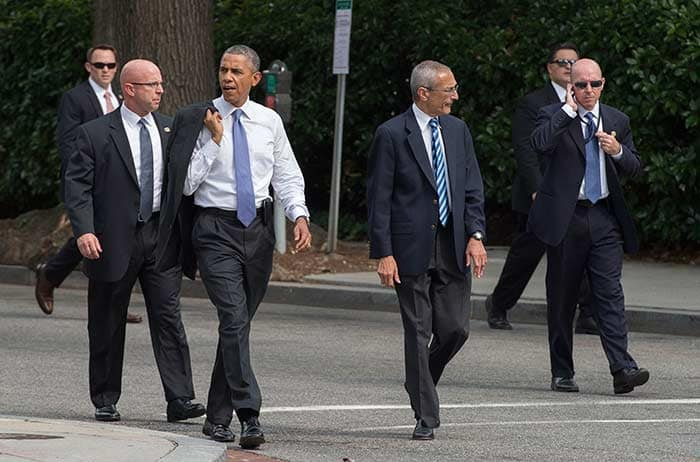feet: (30, 255, 143, 327), (481, 281, 608, 339), (84, 379, 214, 427), (546, 346, 657, 401), (398, 378, 458, 445), (201, 394, 270, 449)
